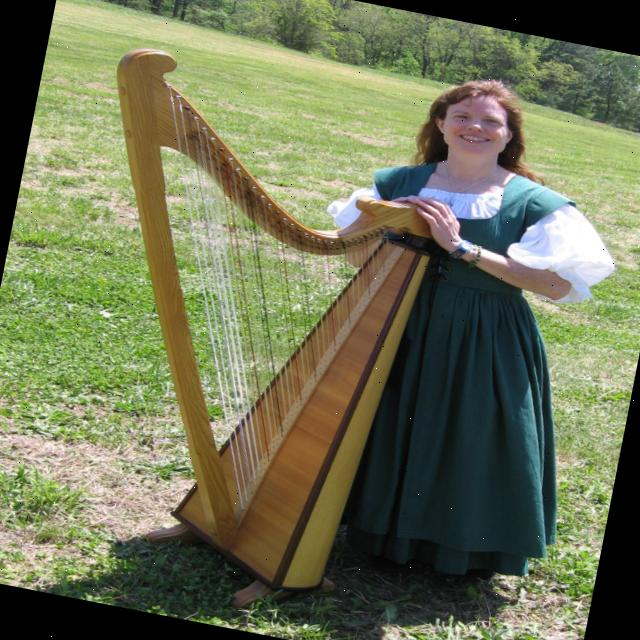harp: (20, 39, 473, 614)
